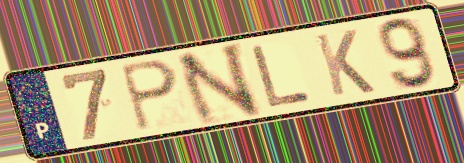7: (58, 66, 110, 143)
9: (373, 15, 439, 91)
K: (311, 27, 378, 99)
L: (247, 42, 315, 110)
N: (172, 39, 265, 129)
P: (116, 58, 182, 134)
